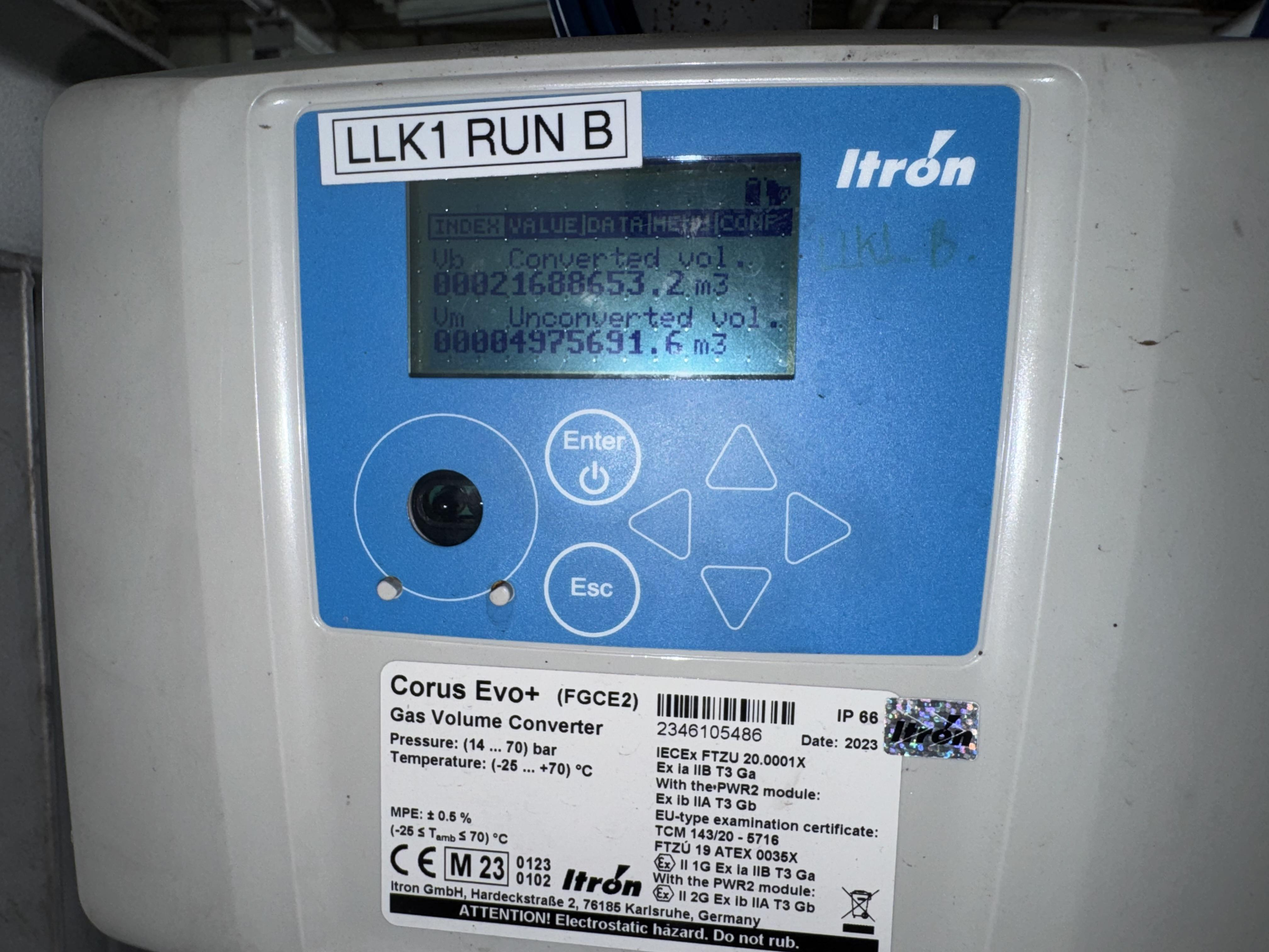digital_screen: (406, 153, 804, 385)
